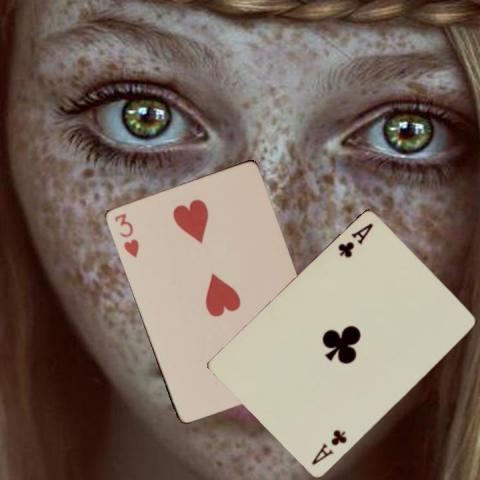3h: (111, 210, 140, 259)
Ac: (308, 427, 349, 467), (334, 220, 374, 260)
